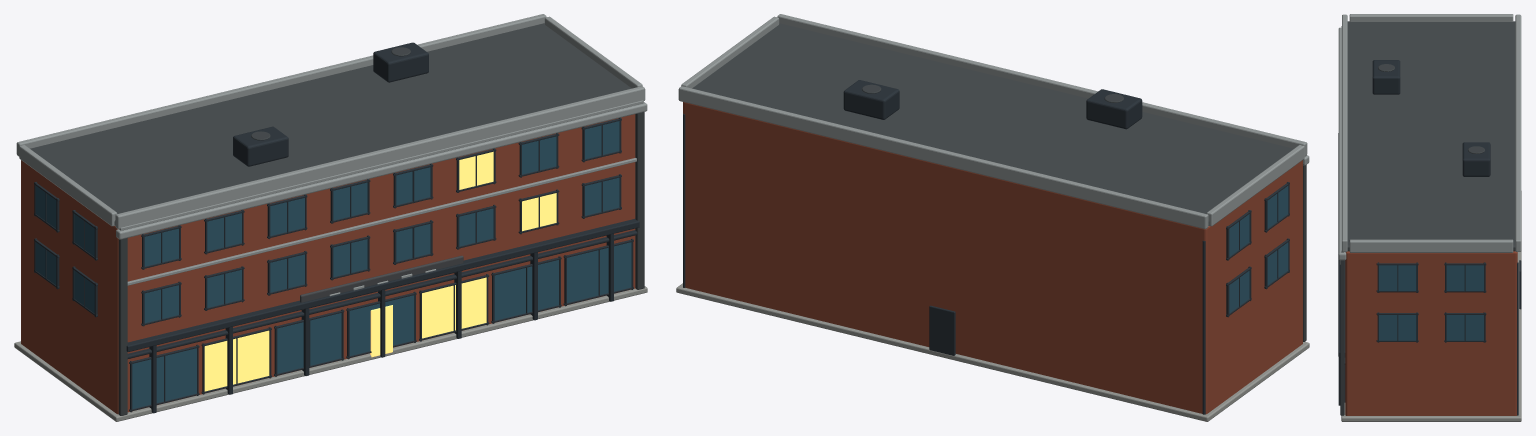
The model's file is rorng_city_storefront_arcade_30x10.glb.
3 views of the same model, side by side, from view 1: azimuth 30°, elevation 25°; view 2: azimuth 150°, elevation 25°; view 3: azimuth 270°, elevation 25° (orthographic). The views are drawn at different scales.
Parts seen in each view (by area): view 1: rorng_city_storefront_arcade_30x10_lod0; view 2: rorng_city_storefront_arcade_30x10_lod0; view 3: rorng_city_storefront_arcade_30x10_lod0.
Boxes of the visible parts, left/top/right/bottom form: rorng_city_storefront_arcade_30x10_lod0: left=14, top=14, right=647, bottom=421; rorng_city_storefront_arcade_30x10_lod0: left=676, top=14, right=1309, bottom=421; rorng_city_storefront_arcade_30x10_lod0: left=1338, top=14, right=1521, bottom=421.
Size of what is drawn, in the model's own units: 30.01 by 12.24 by 10.17.
